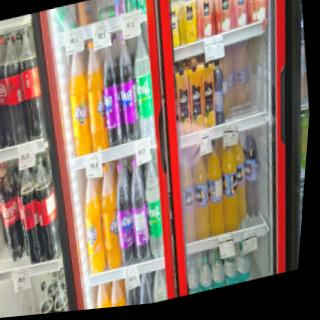Drinks: (124, 15, 162, 141), (135, 147, 171, 262), (220, 239, 242, 286), (207, 243, 229, 288), (194, 246, 215, 292), (231, 240, 253, 283), (183, 253, 201, 295), (149, 264, 168, 302)
Juice: (225, 133, 255, 227), (168, 58, 199, 139), (180, 55, 209, 135), (193, 55, 222, 133), (227, 0, 256, 42), (246, 0, 276, 33), (178, 0, 201, 43), (194, 0, 220, 38), (213, 0, 239, 35), (166, 0, 183, 47)
beverage: (8, 18, 50, 154), (56, 34, 98, 164), (108, 28, 147, 146), (0, 25, 34, 150), (91, 156, 127, 272), (76, 42, 113, 154), (74, 166, 112, 274), (27, 153, 63, 266), (107, 155, 143, 266), (93, 36, 129, 144), (11, 158, 46, 269), (0, 160, 31, 273), (0, 33, 7, 145)
